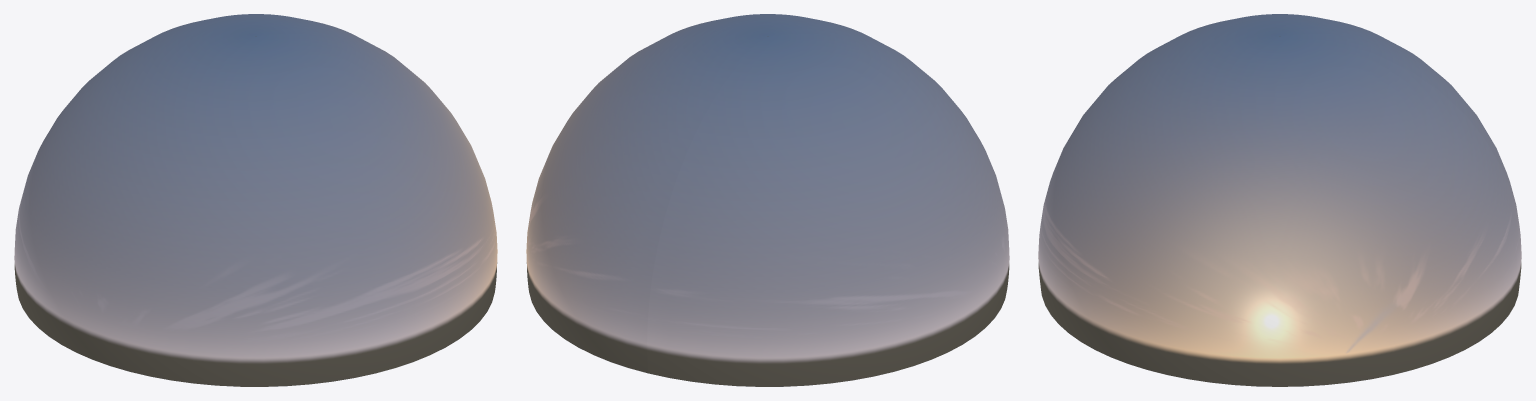
Rendered from horsell_sandpits.gltf.
The picture shows the model from 3 angles, left to right: view 1: azimuth 30°, elevation 25°; view 2: azimuth 150°, elevation 25°; view 3: azimuth 270°, elevation 25°; orthographic projection.
Parts seen in each view (by area): view 1: SkyDome; view 2: SkyDome; view 3: SkyDome.
Part boxes in pixels (x1=…): SkyDome: x1=14, y1=14, x2=497, y2=386; SkyDome: x1=526, y1=14, x2=1009, y2=386; SkyDome: x1=1038, y1=14, x2=1521, y2=386.
Size of the model in its own units: 292 by 166 by 292.
13 materials, 13 textured.
